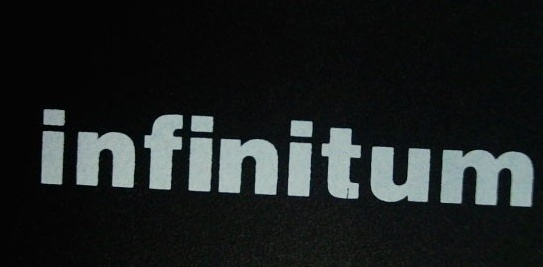BK_infinitum: (39, 103, 536, 210)
